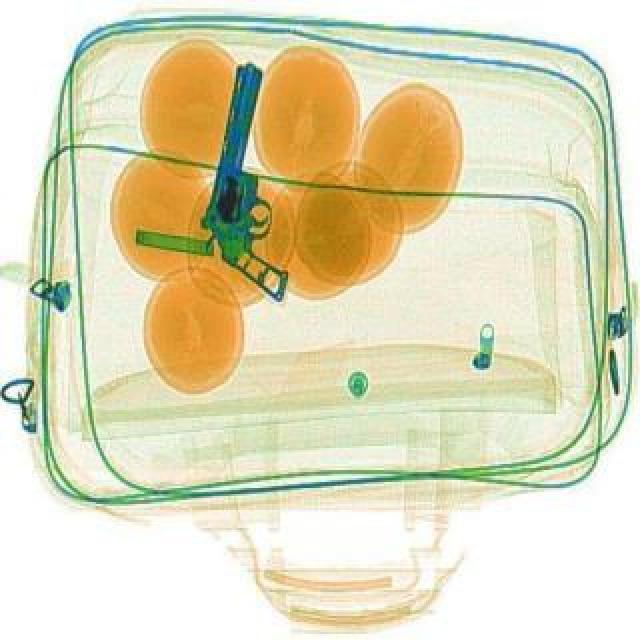gun: (184, 54, 332, 302)
